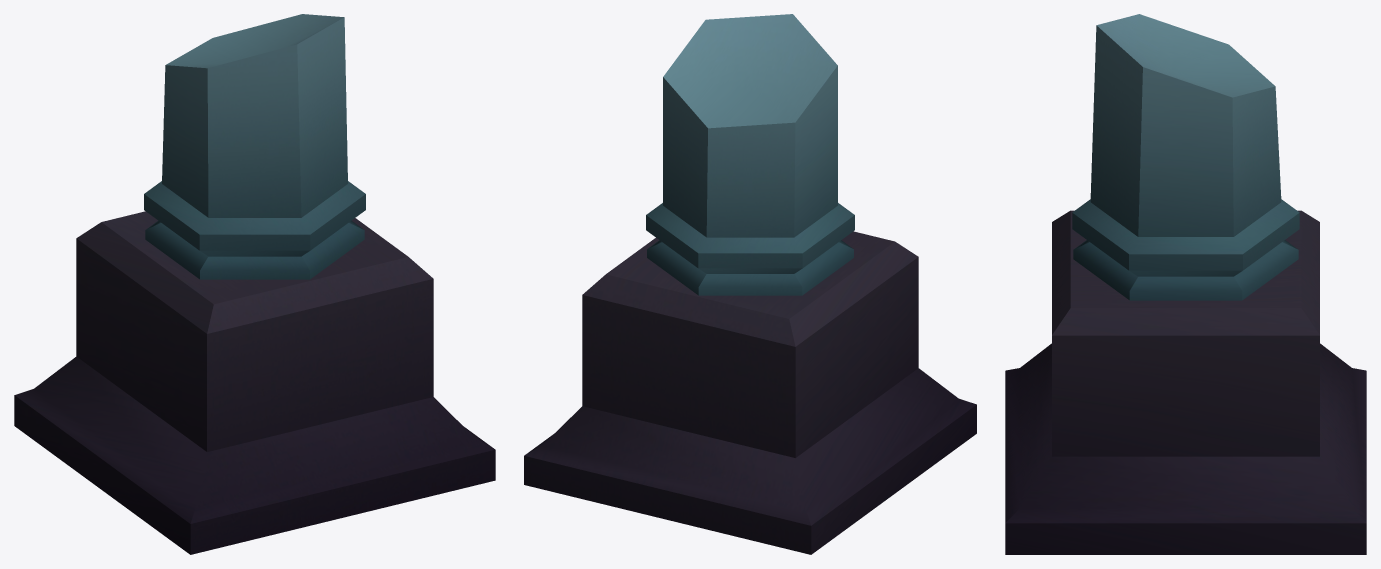
The model's file is Säule_stumpo.fbx.
The picture shows the model from 3 angles, left to right: view 1: azimuth 30°, elevation 25°; view 2: azimuth 150°, elevation 25°; view 3: azimuth 270°, elevation 25°; orthographic projection. The views are drawn at different scales.
Visible parts, largest first — view 1: Säule_stumpo; view 2: Säule_stumpo; view 3: Säule_stumpo.
Part boxes in pixels (x1,y1,x2,y2): Säule_stumpo: [14, 14, 495, 554]; Säule_stumpo: [524, 14, 976, 554]; Säule_stumpo: [1005, 14, 1366, 554].
Bounding box in the file's own units: 4.55 × 6.3 × 4.55.
